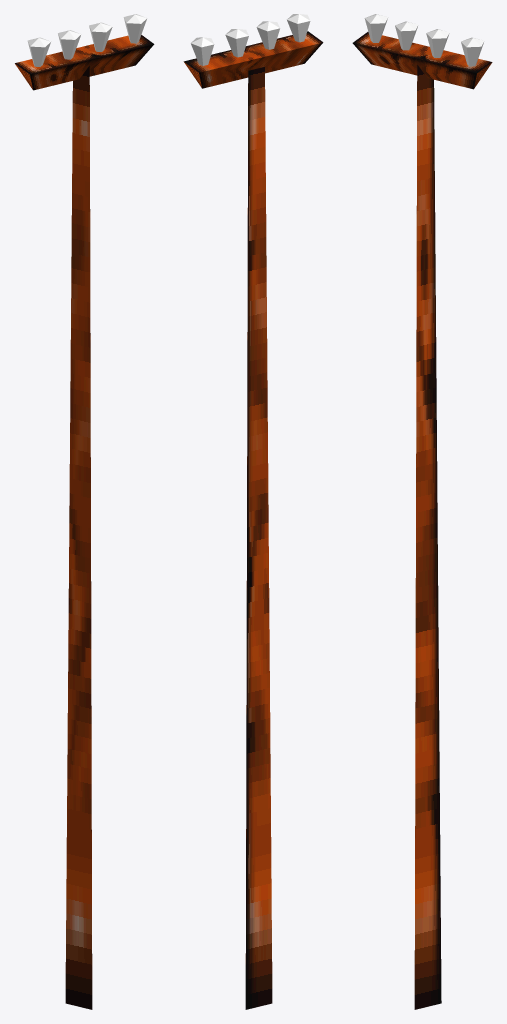
The model's file is Strommast_833.glb.
The picture shows the model from 3 angles, left to right: view 1: azimuth 30°, elevation 25°; view 2: azimuth 210°, elevation 25°; view 3: azimuth 330°, elevation 25°; orthographic projection.
Visible parts, largest first — view 1: pCylinderShape29, pCylinderShape30, pSphereShape7, pSphereShape8, pSphereShape5, pSphereShape6; view 2: pCylinderShape29, pCylinderShape30, pSphereShape7, pSphereShape5, pSphereShape6, pSphereShape8; view 3: pCylinderShape29, pCylinderShape30, pSphereShape7, pSphereShape6, pSphereShape5, pSphereShape8.
Boxes of the visible parts, bbox=[...] form: pCylinderShape29: bbox=[65, 66, 92, 1009]; pCylinderShape30: bbox=[15, 35, 154, 90]; pSphereShape7: bbox=[58, 30, 81, 59]; pSphereShape8: bbox=[89, 22, 112, 51]; pSphereShape5: bbox=[123, 14, 146, 43]; pSphereShape6: bbox=[27, 37, 50, 66]; pCylinderShape29: bbox=[245, 67, 272, 1009]; pCylinderShape30: bbox=[183, 31, 323, 88]; pSphereShape7: bbox=[256, 21, 280, 49]; pSphereShape5: bbox=[190, 37, 214, 65]; pSphereShape6: bbox=[287, 14, 310, 42]; pSphereShape8: bbox=[225, 29, 248, 57]; pCylinderShape29: bbox=[414, 65, 441, 1009]; pCylinderShape30: bbox=[352, 32, 492, 89]; pSphereShape7: bbox=[395, 21, 418, 50]; pSphereShape6: bbox=[364, 14, 388, 42]; pSphereShape5: bbox=[461, 37, 484, 66]; pSphereShape8: bbox=[426, 29, 449, 57].
Size of the model in its own units: 0.1601 by 1.2 by 0.0345.
Materials: 6 (2 with a texture image).
